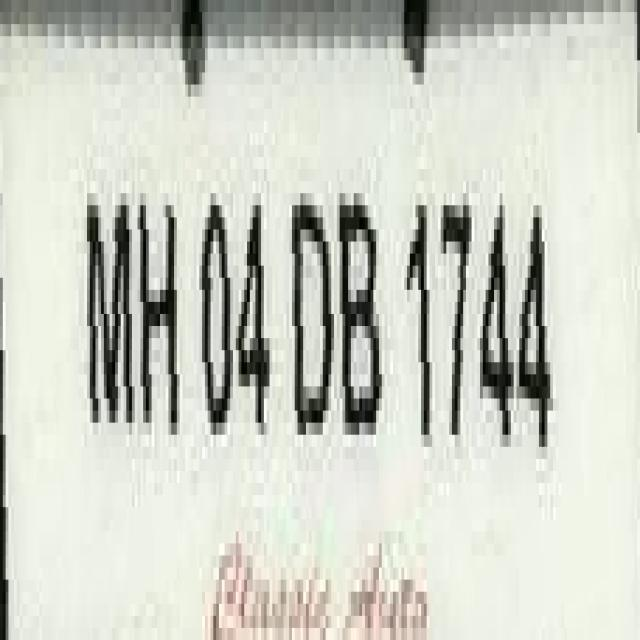license_plate: (3, 12, 640, 616)
